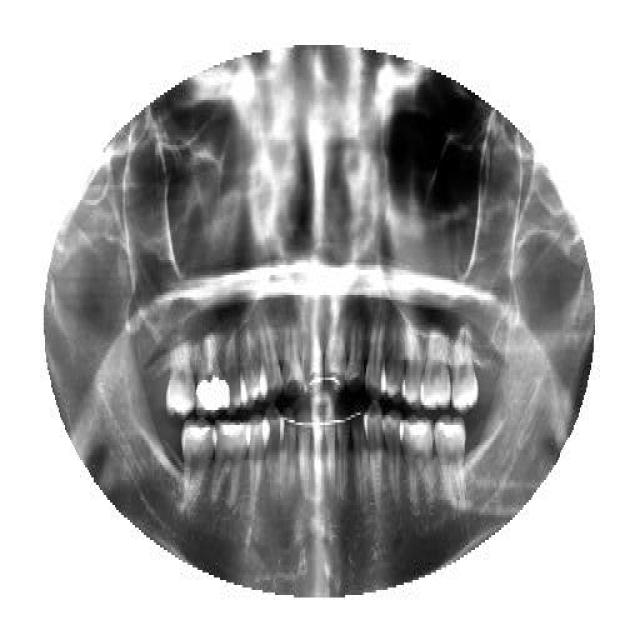Fillings: (196, 333, 230, 415)
